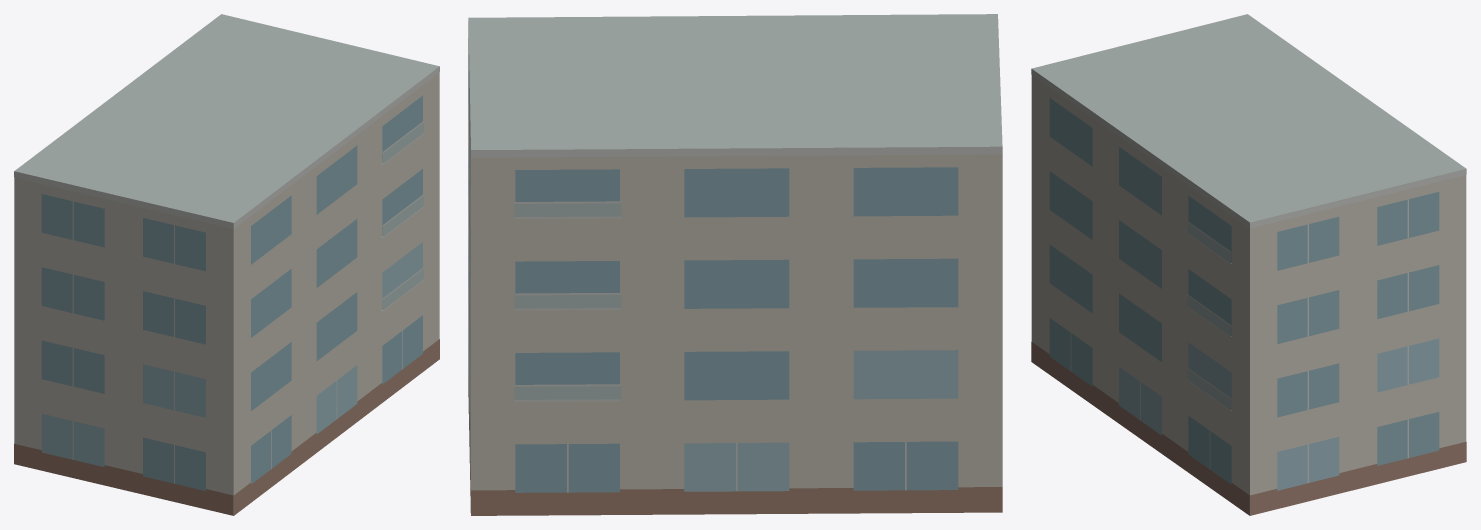
File: survey-upis-32529439.glb
3 views of the same model, side by side, from view 1: azimuth 30°, elevation 25°; view 2: azimuth 150°, elevation 25°; view 3: azimuth 270°, elevation 25° (orthographic). The views are drawn at different scales.
Visible parts, largest first — view 1: survey-upis-32529439.tmp; view 2: survey-upis-32529439.tmp; view 3: survey-upis-32529439.tmp.
Boxes of the visible parts, x1,y1,x2,y2 form: survey-upis-32529439.tmp: (14, 14, 439, 515); survey-upis-32529439.tmp: (468, 14, 1002, 515); survey-upis-32529439.tmp: (1031, 14, 1466, 515).
Bounding box in the file's own units: 17.85 × 11.7 × 15.73.
